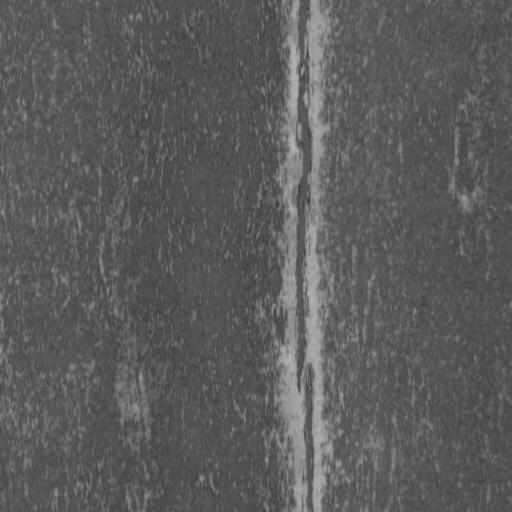zongxiangliewen: (290, 1, 320, 507)
